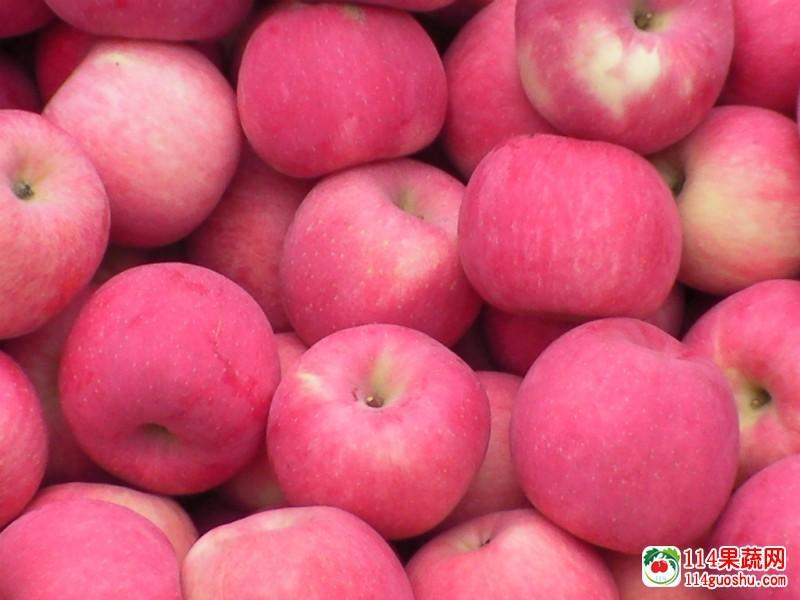apple: (503, 316, 738, 555), (46, 266, 282, 497), (449, 134, 682, 341), (262, 326, 486, 538), (28, 33, 243, 252), (231, 2, 445, 178), (277, 164, 478, 348), (516, 1, 733, 154), (651, 106, 798, 296), (1, 114, 111, 345), (679, 279, 800, 477), (2, 482, 192, 597), (180, 506, 412, 597), (722, 1, 797, 116)
